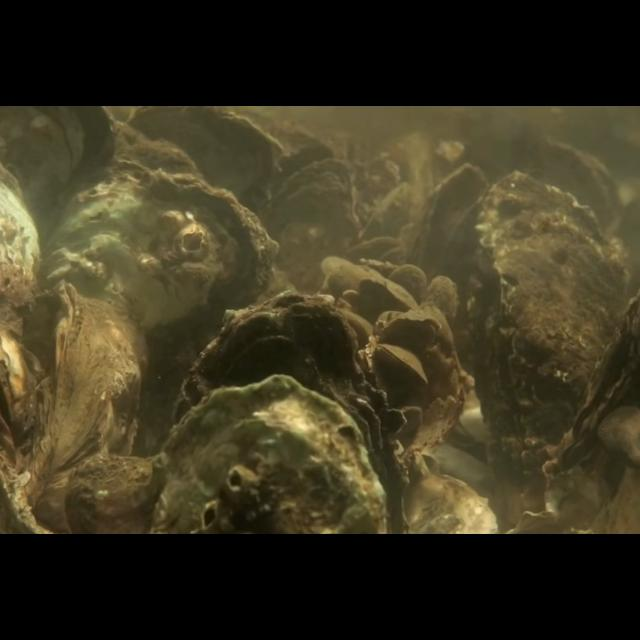Oyster-Closed: (45, 166, 279, 444), (176, 289, 407, 535), (147, 373, 386, 534), (30, 279, 148, 535), (125, 106, 287, 212), (0, 106, 116, 230), (64, 452, 154, 534), (0, 161, 40, 335), (399, 472, 496, 534), (359, 277, 419, 313), (388, 264, 428, 312), (320, 255, 370, 293), (383, 316, 441, 348), (426, 274, 458, 326)
Oyster-Open: (467, 170, 627, 466), (540, 282, 640, 502), (258, 142, 354, 284), (412, 162, 492, 318), (0, 329, 40, 465), (375, 344, 429, 386)
